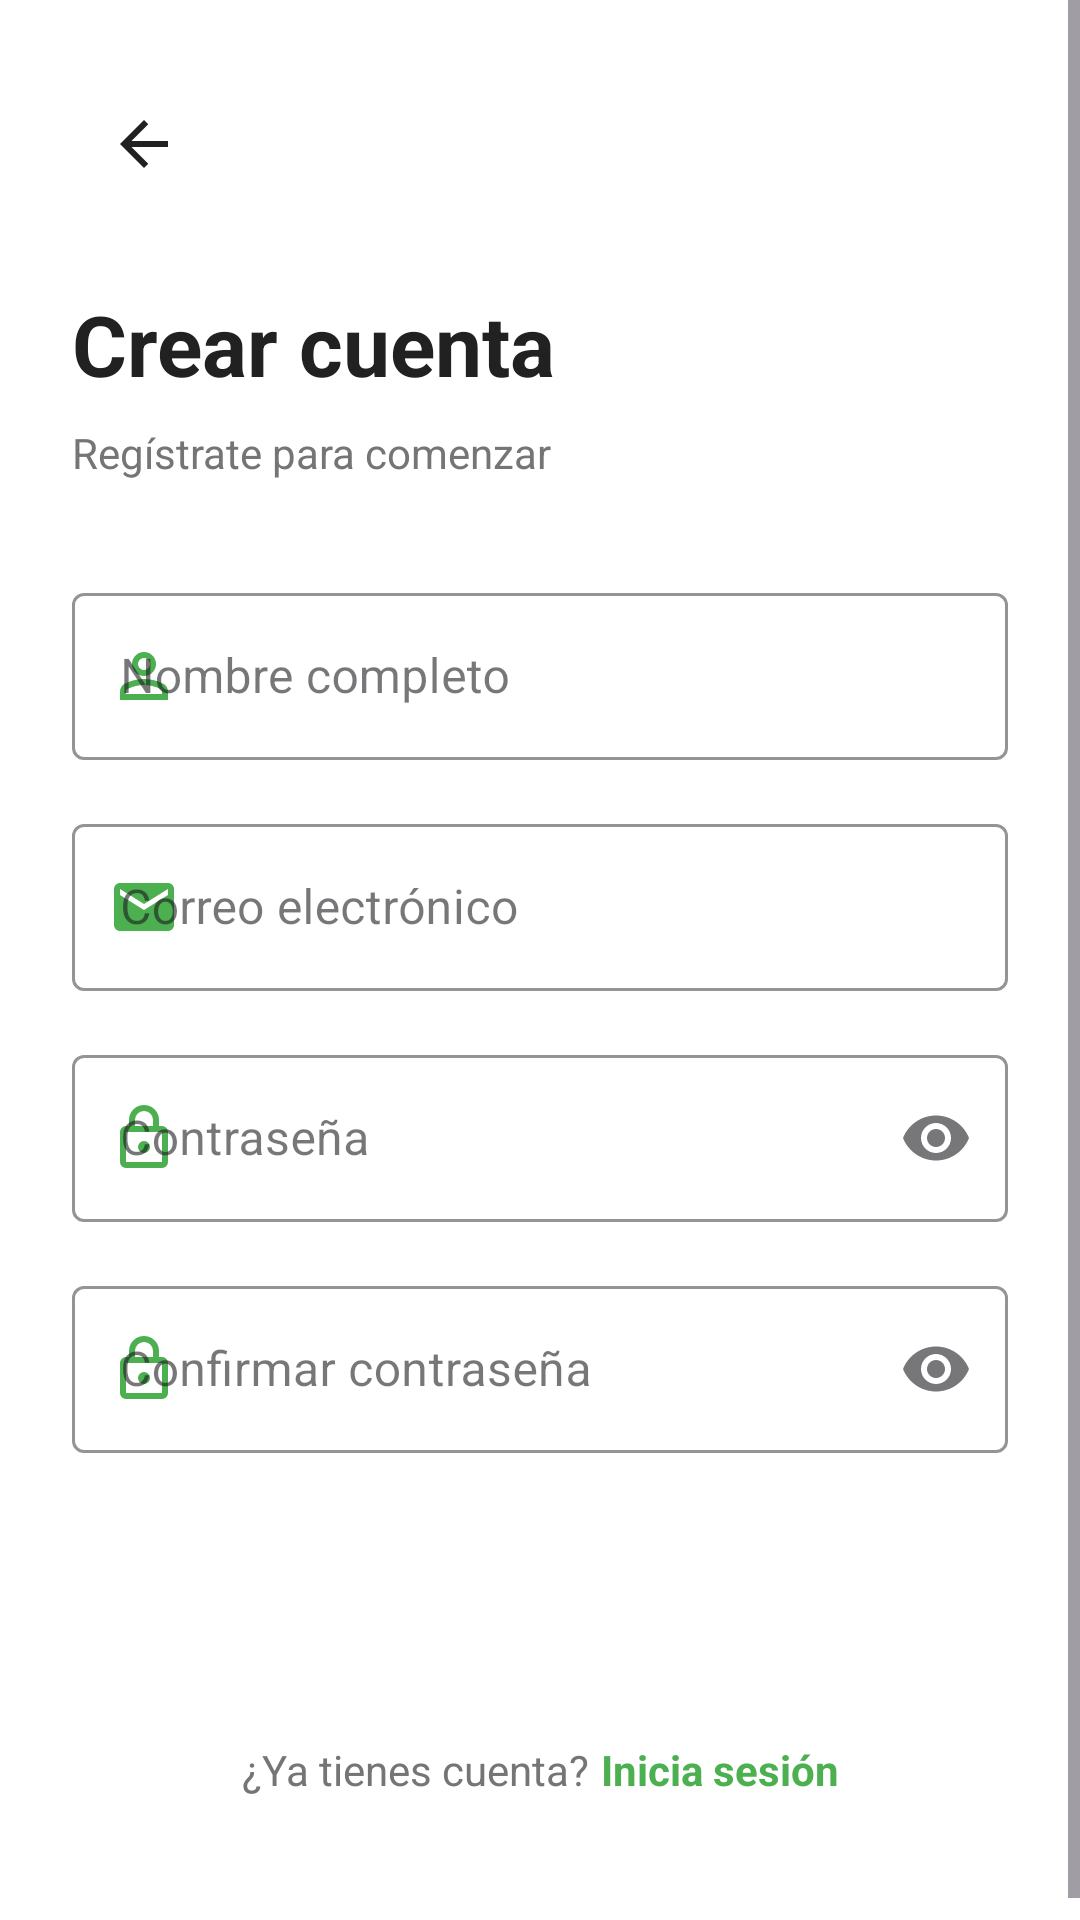

Named icons in this screenshot (1080px×1920px) and their centers, (x,y):
Atrás: (144,144)
